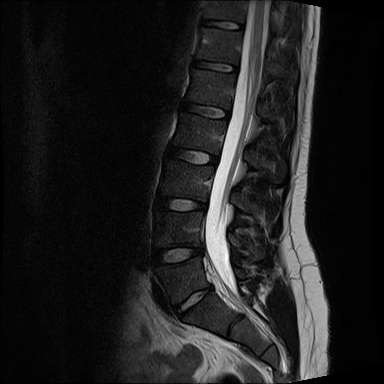Lumbar Disc Bulge (LDB): (142, 233, 213, 271)
Normal IVD: (171, 279, 213, 322), (177, 95, 232, 125), (161, 142, 220, 169), (153, 192, 210, 215), (188, 54, 240, 77), (194, 15, 246, 32)
